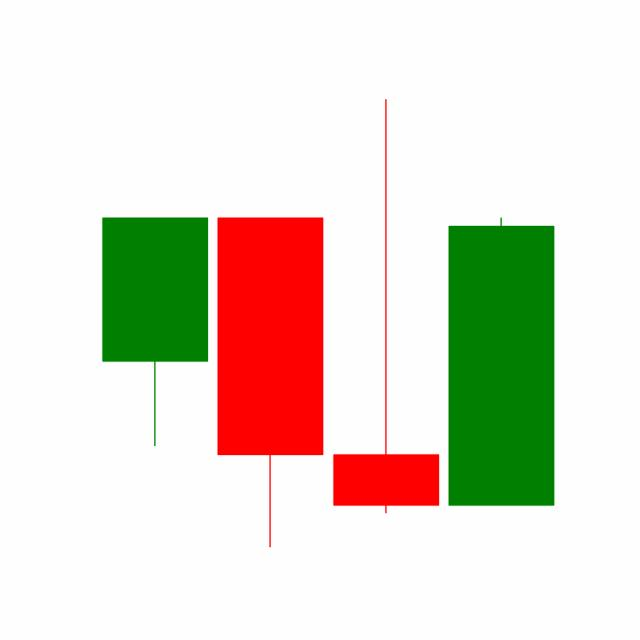Marubozu: (443, 214, 559, 508)
